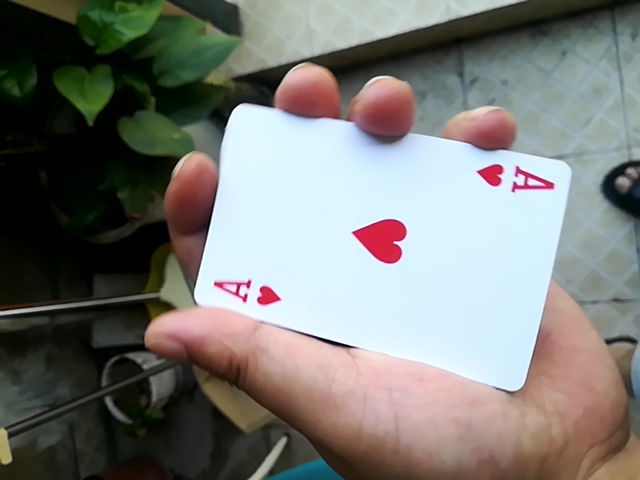hx a: (181, 95, 576, 380)
